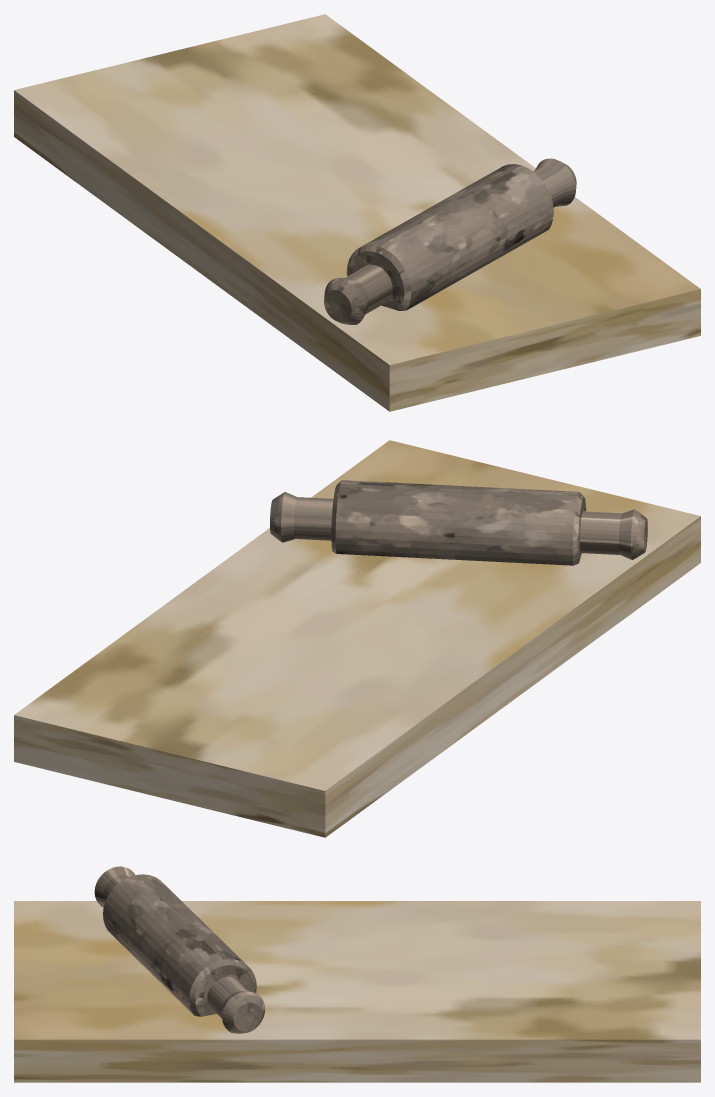
The model's file is cuttingboard.fbx.
3 views of the same model, one above another, from view 1: azimuth 30°, elevation 25°; view 2: azimuth 150°, elevation 25°; view 3: azimuth 270°, elevation 25° (orthographic). The views are drawn at different scales.
Parts seen in each view (by area): view 1: Cylinder.001; view 2: Cylinder.001; view 3: Cylinder.001.
Boxes of the visible parts, box(x1,y1,x2,y2) form: Cylinder.001: box(14, 14, 700, 411); Cylinder.001: box(14, 440, 700, 837); Cylinder.001: box(14, 866, 700, 1082).
Size of the model in its own units: 97.02 by 30.16 by 200.
